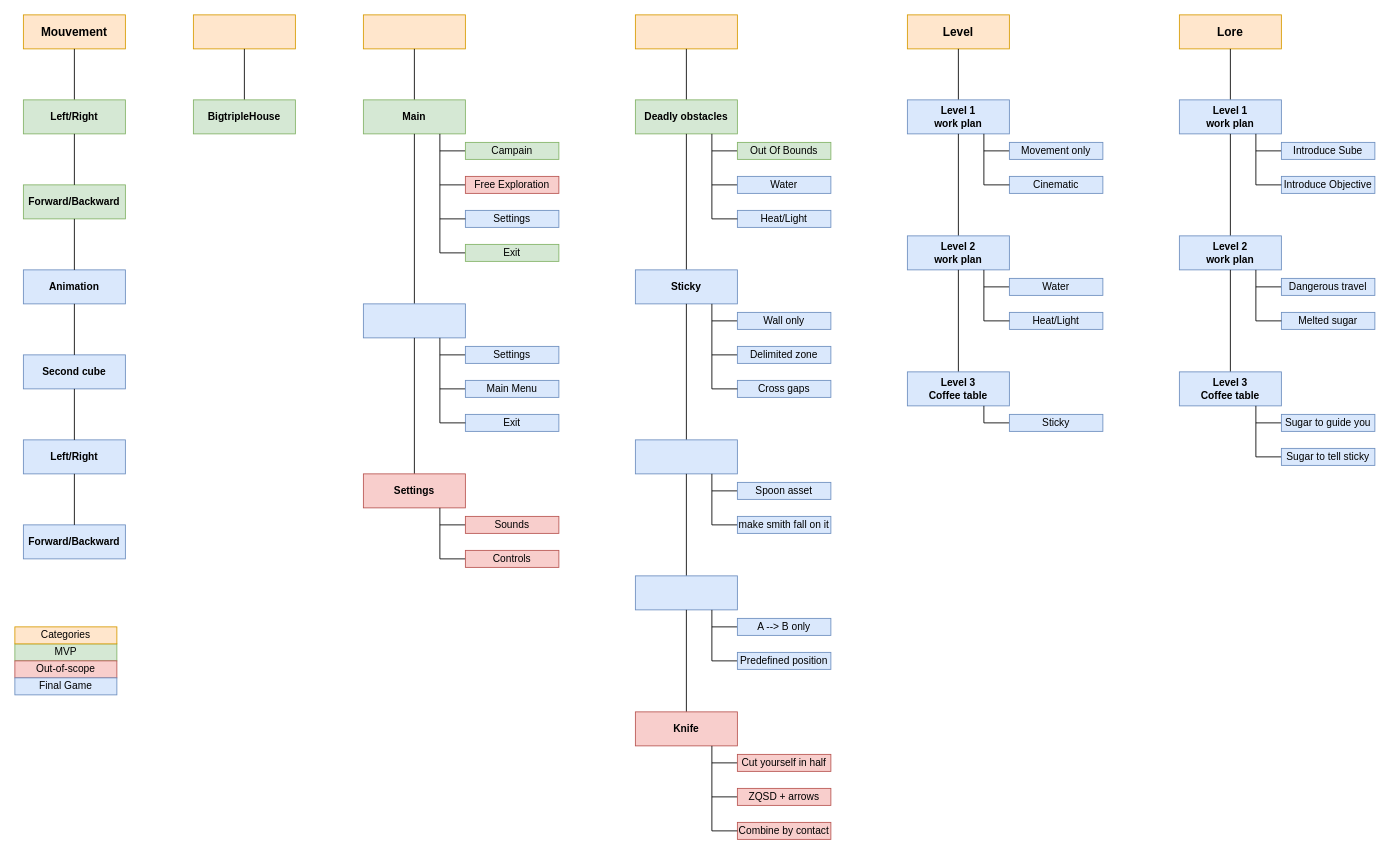
Image size: 1390x854. Some labels were removed from this diagram. The box of each missing label's shape, as (x1, y1, x2, y2) in pixels:
Catapult: (635, 439, 737, 474)
Map: (193, 14, 295, 49)
Mechanics: (635, 14, 737, 49)
Menu: (363, 14, 465, 49)
Pause: (363, 303, 465, 338)
Portals: (635, 575, 737, 610)
